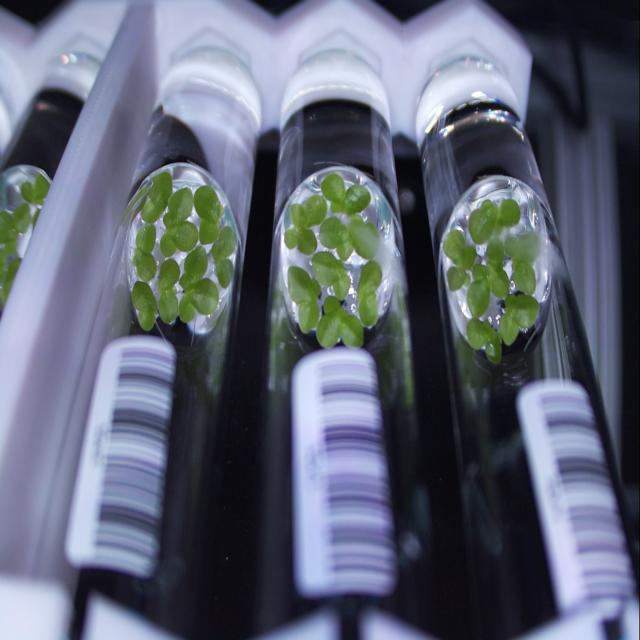Lemna-Gibba: (468, 237, 510, 316), (320, 215, 379, 260), (285, 195, 328, 255), (316, 295, 364, 347), (469, 198, 521, 243), (288, 265, 320, 334), (442, 228, 476, 290), (321, 172, 370, 215), (499, 294, 539, 345), (312, 252, 350, 299), (179, 279, 219, 322), (160, 213, 199, 257), (466, 317, 502, 364), (141, 170, 172, 223), (358, 260, 382, 327), (158, 259, 180, 324), (132, 225, 156, 282), (180, 245, 208, 290), (131, 280, 156, 330), (164, 187, 194, 228), (504, 232, 540, 263), (194, 185, 222, 222), (211, 225, 236, 262), (512, 260, 536, 295), (215, 259, 234, 289), (199, 218, 220, 244)
